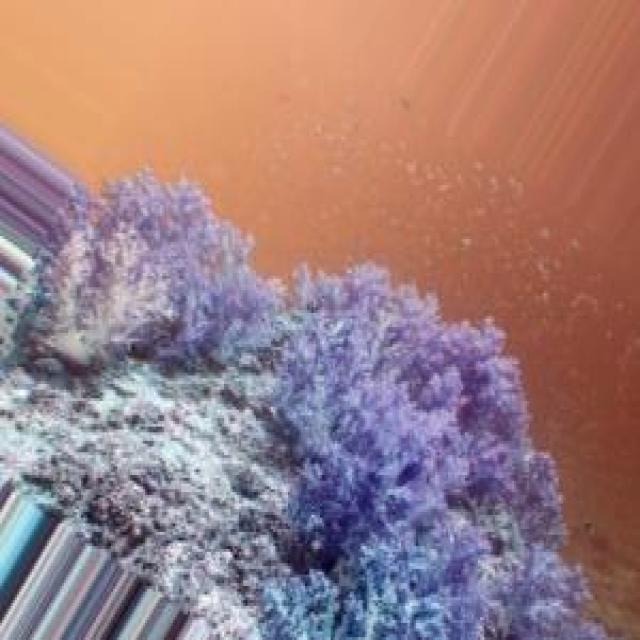Healthy: (1, 169, 609, 640)
